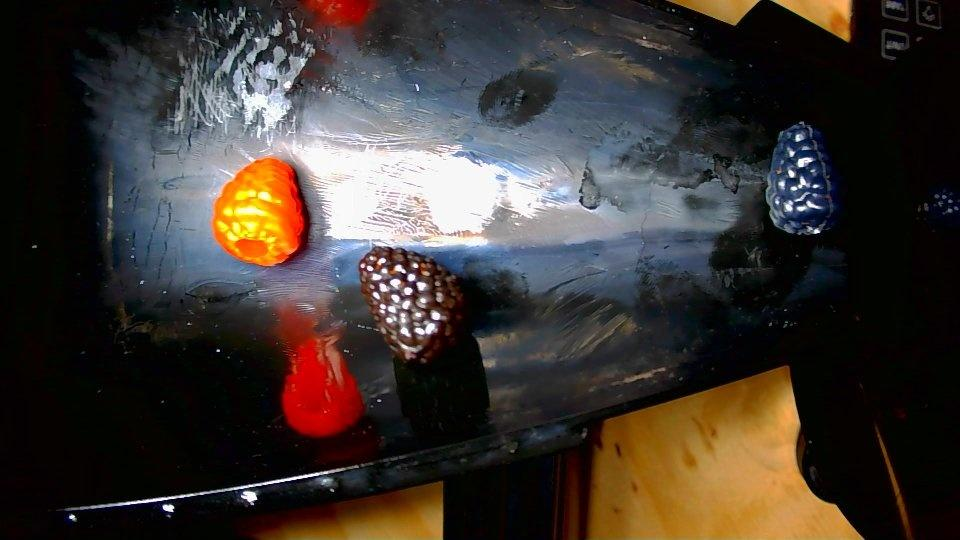berry: (358, 246, 465, 363), (211, 157, 305, 265), (765, 122, 837, 234), (918, 186, 959, 228)
